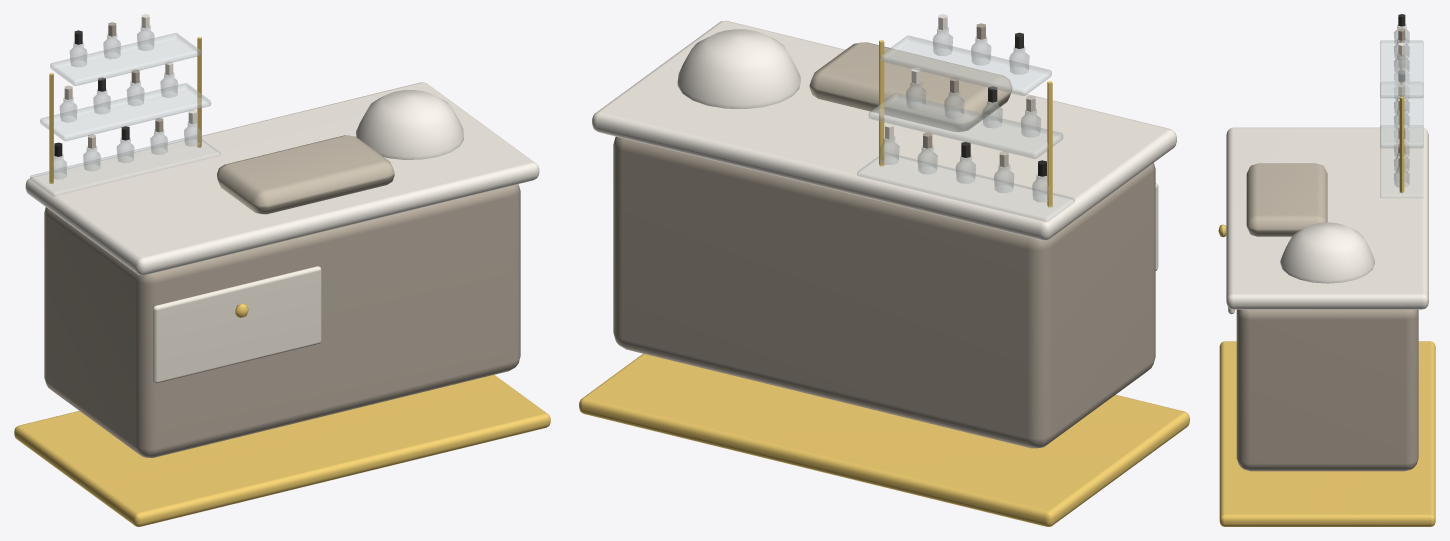
The model's file is manicure_table.glb.
3 renders of one model, left to right at view 1: azimuth 30°, elevation 25°; view 2: azimuth 150°, elevation 25°; view 3: azimuth 270°, elevation 25°, orthographic. The views are drawn at different scales.
Visible parts, largest first — view 1: manicure_table; view 2: manicure_table; view 3: manicure_table.
Boxes of the visible parts, bbox=[...] form: manicure_table: bbox=[14, 14, 550, 526]; manicure_table: bbox=[579, 14, 1189, 526]; manicure_table: bbox=[1218, 14, 1435, 526].
Bounding box in the file's own units: 1.24 × 1.16 × 0.644.
